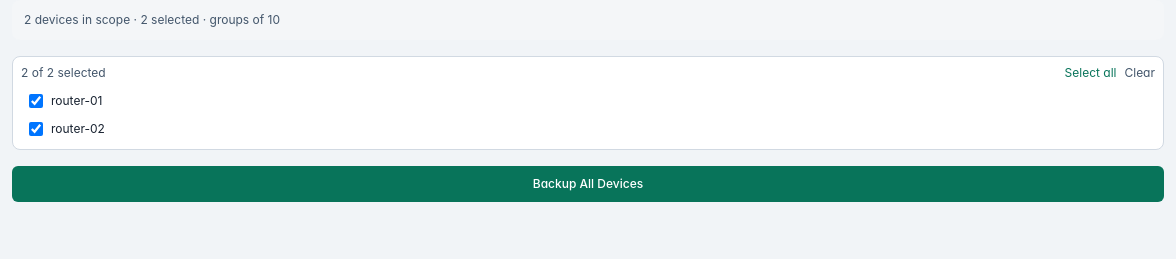
Test: BulkBackupPanel — uses persistent backend bulk runs › shows offline feedback returned by the persistent run
Click the button "Backup All Devices": (588, 184) [12,166,1164,202]
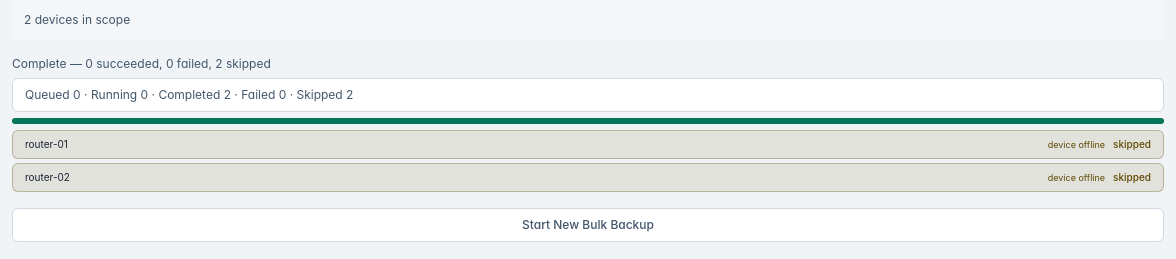
Expected: the text "device offline" is shown 2 times, [1048,138,1105,151]; [1048,171,1105,184]
Expected: the text "Complete — 0 succeeded, 0 failed, 2 skipped" is shown, [12,56,271,72]
